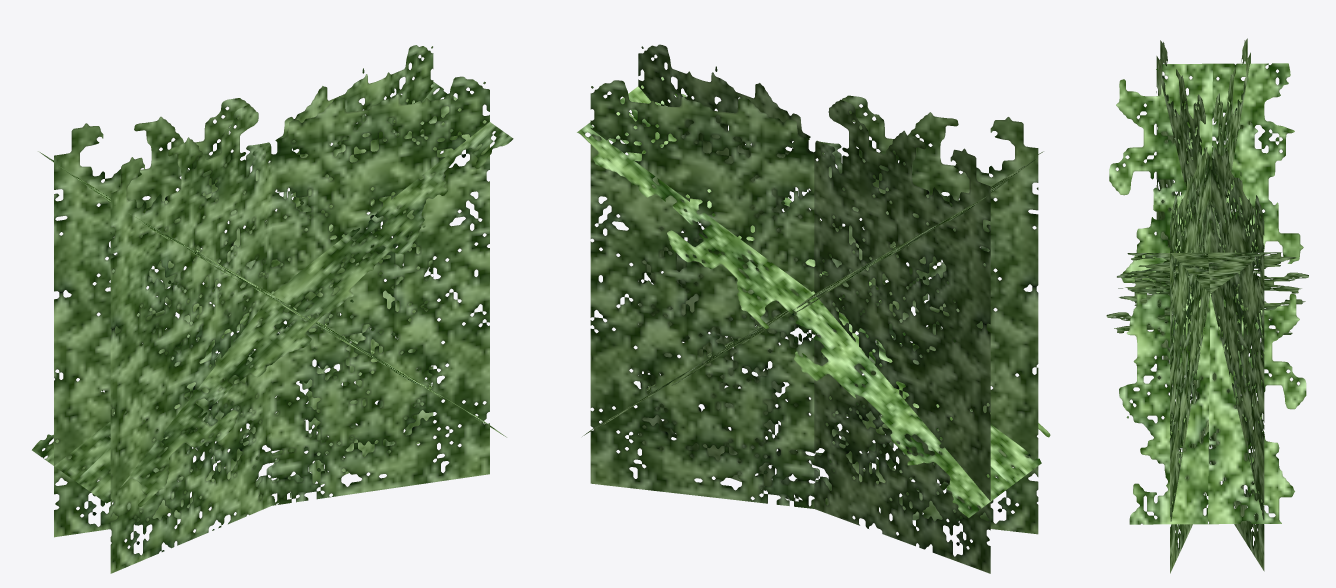
The model's file is bush_tall_full_overgrown_summer.fbx.
3 renders of one model, left to right at view 1: azimuth 30°, elevation 25°; view 2: azimuth 150°, elevation 25°; view 3: azimuth 270°, elevation 25°, orthographic. The views are drawn at different scales.
Parts seen in each view (by area): view 1: bush_tall_full_overgrown_summer; view 2: bush_tall_full_overgrown_summer; view 3: bush_tall_full_overgrown_summer.
Part boxes in pixels (x1,y1,x2,y2): bush_tall_full_overgrown_summer: [32, 45, 513, 573]; bush_tall_full_overgrown_summer: [577, 44, 1050, 573]; bush_tall_full_overgrown_summer: [1106, 38, 1308, 573].
Bounding box in the file's own units: 200 × 206 × 108.
1 material, 1 textured.
